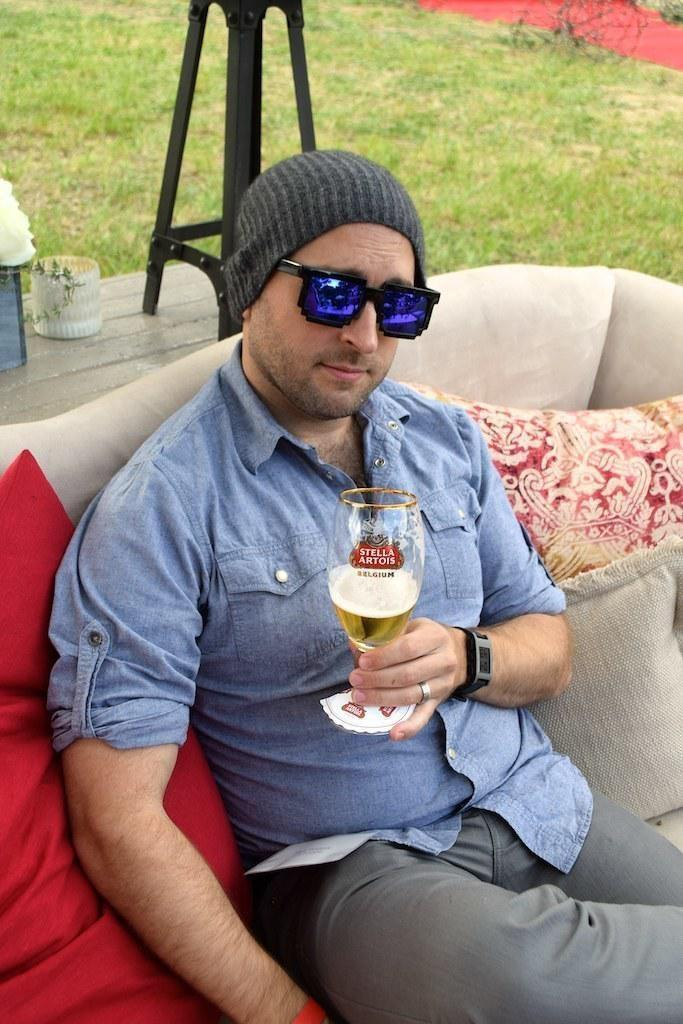glass-wine: (320, 489, 432, 734)
